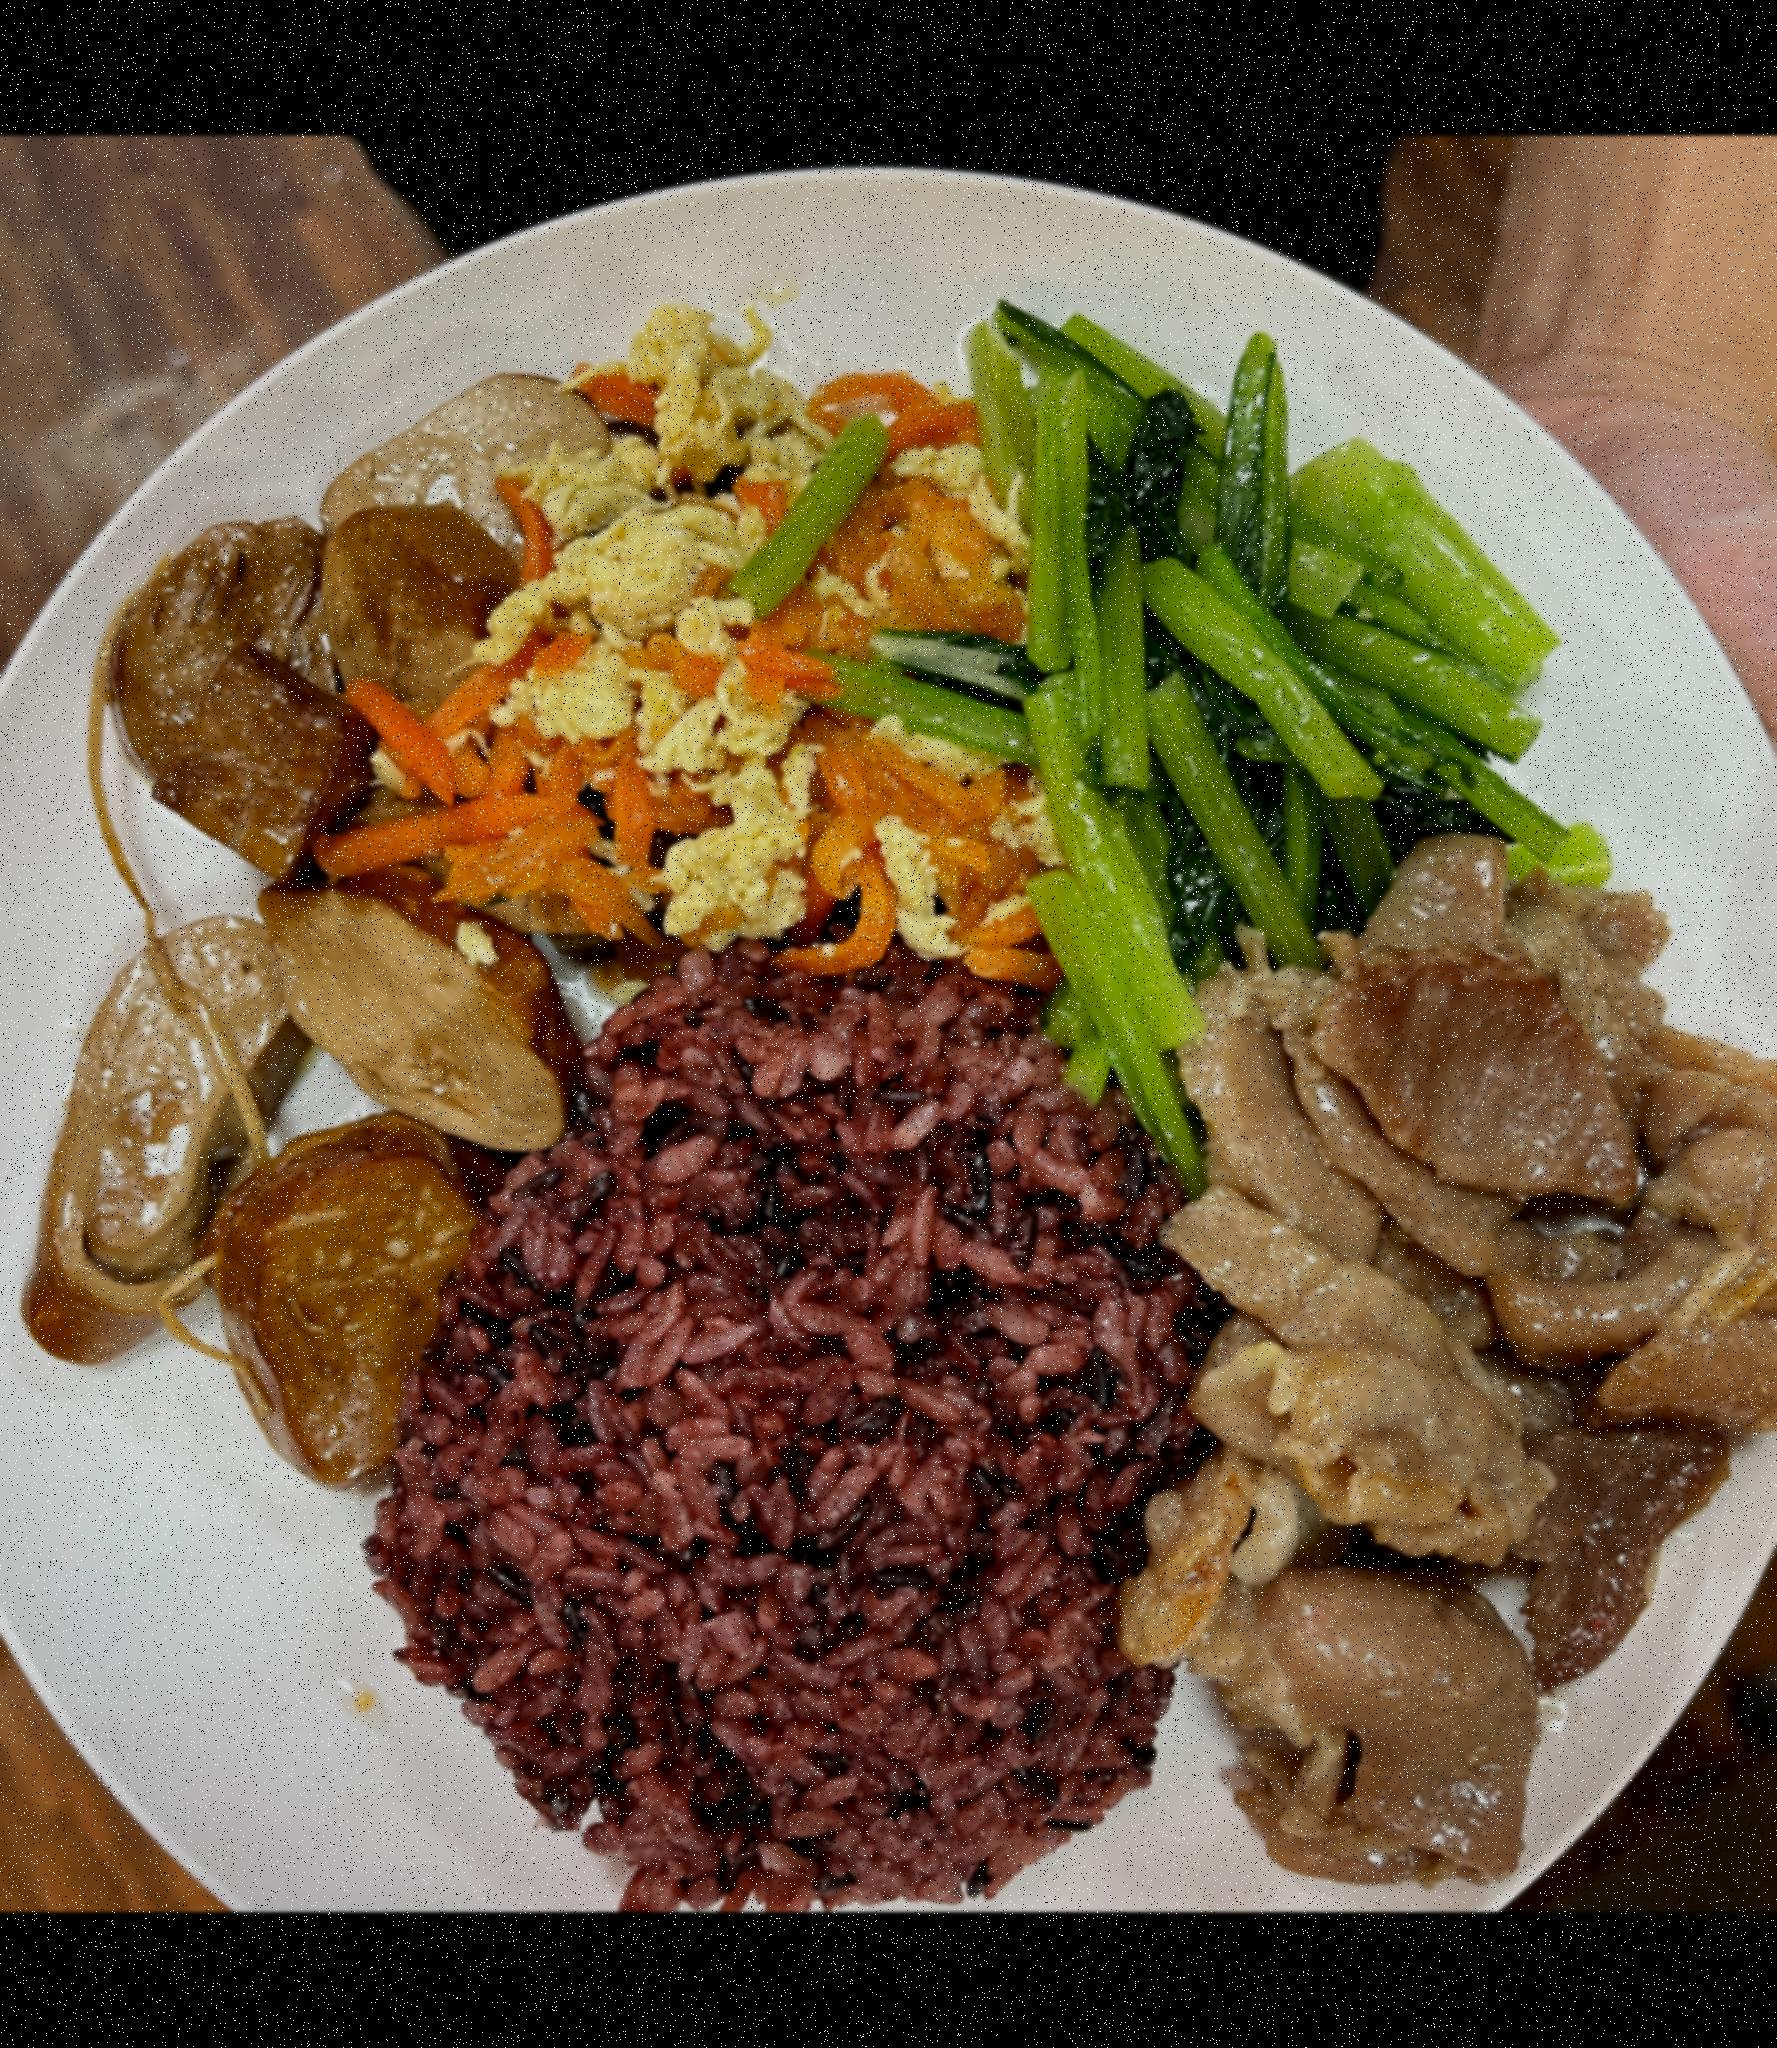plate: (0, 136, 1777, 1905)
purple rice: (329, 918, 1188, 1870)
sauteed pork: (1099, 852, 1777, 1856)
side dish: (0, 503, 556, 1423), (965, 289, 1523, 1015), (413, 366, 1052, 973)
